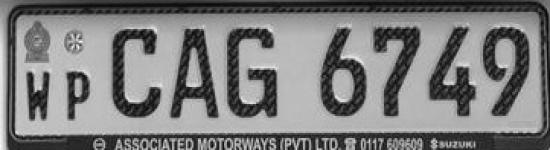4: (426, 20, 479, 120)
6: (307, 19, 369, 123)
7: (370, 16, 424, 124)
9: (482, 20, 536, 124)
A: (170, 25, 219, 125)
C: (106, 24, 163, 122)
G: (222, 23, 289, 126)
P: (64, 66, 96, 122)
W: (22, 65, 59, 123)
